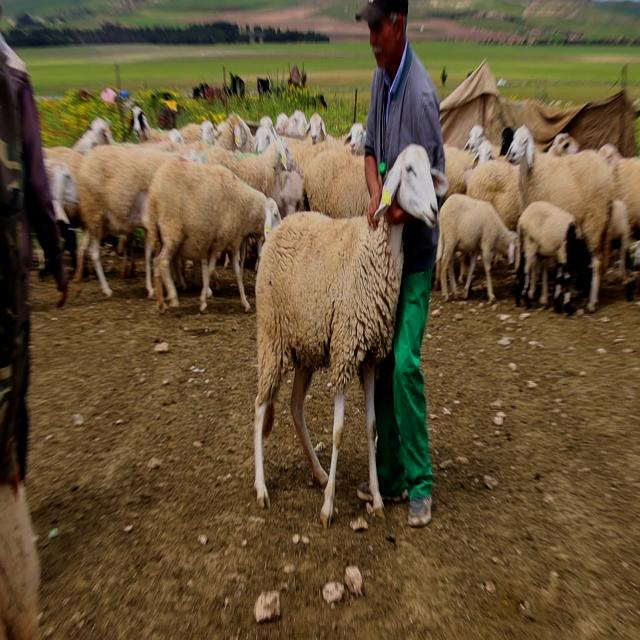Score_1: (254, 144, 438, 526)
